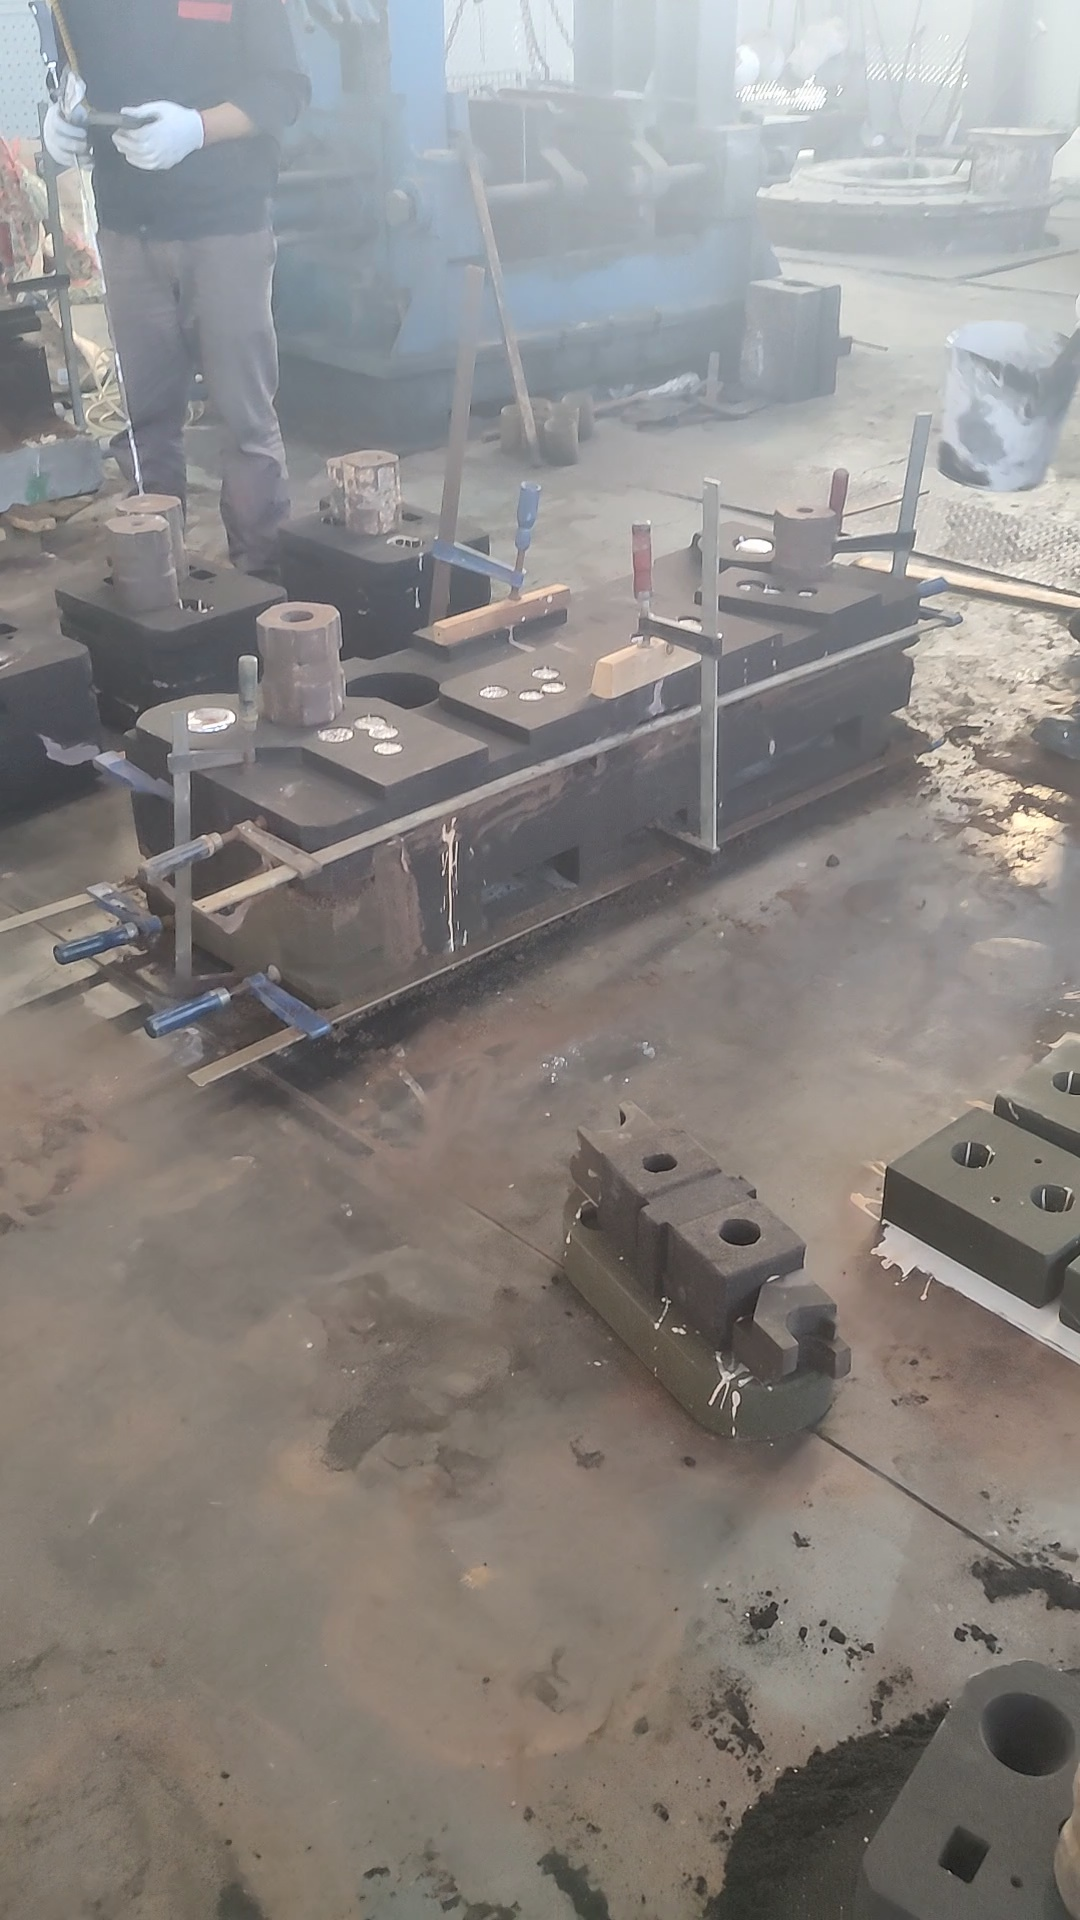pouring hole: (980, 1691, 1076, 1778), (1029, 1183, 1077, 1213), (949, 1139, 994, 1168), (186, 705, 235, 732), (342, 487, 378, 516), (127, 545, 164, 570), (733, 535, 774, 555), (1051, 1069, 1079, 1096), (560, 392, 593, 406), (545, 418, 575, 430), (525, 396, 550, 407), (526, 413, 550, 423), (553, 405, 578, 414), (502, 404, 524, 413)
